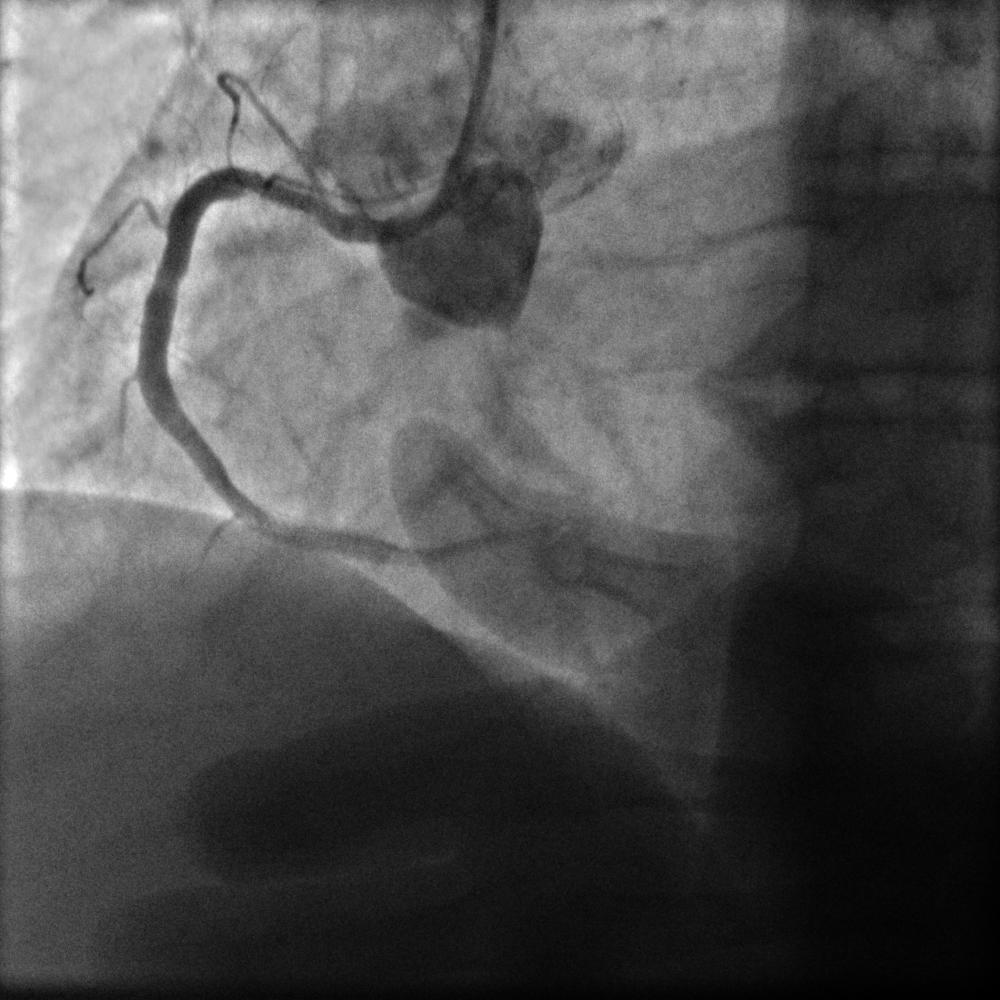Stenosis: (229, 152, 319, 233)
